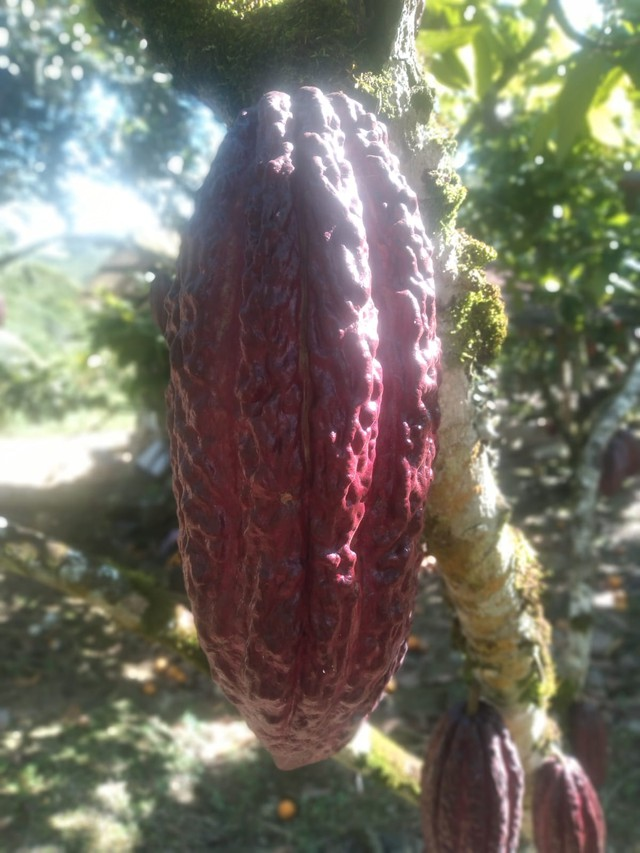Health: (143, 76, 450, 775)
